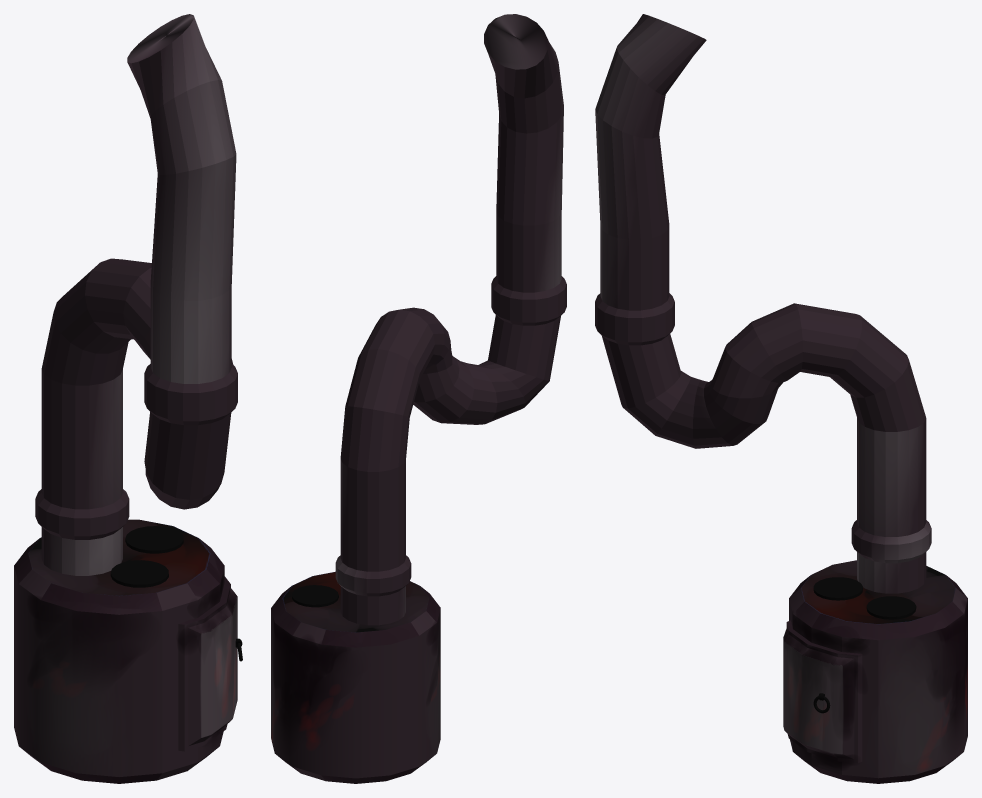
File: Kompor.FBX
The picture shows the model from 3 angles, left to right: view 1: azimuth 30°, elevation 25°; view 2: azimuth 150°, elevation 25°; view 3: azimuth 270°, elevation 25°; orthographic projection. The views are drawn at different scales.
Parts seen in each view (by area): view 1: Cerobong, kompor; view 2: Cerobong, kompor; view 3: Cerobong, kompor.
Boxes of the visible parts, left/top/right/bottom form: Cerobong: left=35, top=14, right=237, bottom=575; kompor: left=14, top=519, right=242, bottom=783; Cerobong: left=335, top=14, right=566, bottom=625; kompor: left=271, top=571, right=440, bottom=783; Cerobong: left=595, top=14, right=931, bottom=593; kompor: left=783, top=560, right=967, bottom=783.
Size of the model in its own units: 167 by 649 by 309.
3 materials, 3 textured.
